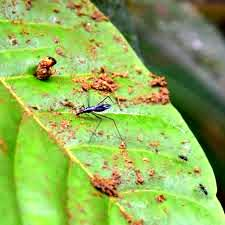Helopeltis-insect: (74, 98, 112, 120), (196, 176, 210, 202), (178, 151, 192, 163)
